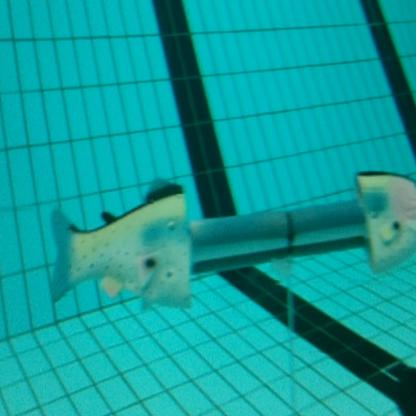tail: (50, 172, 193, 320)
